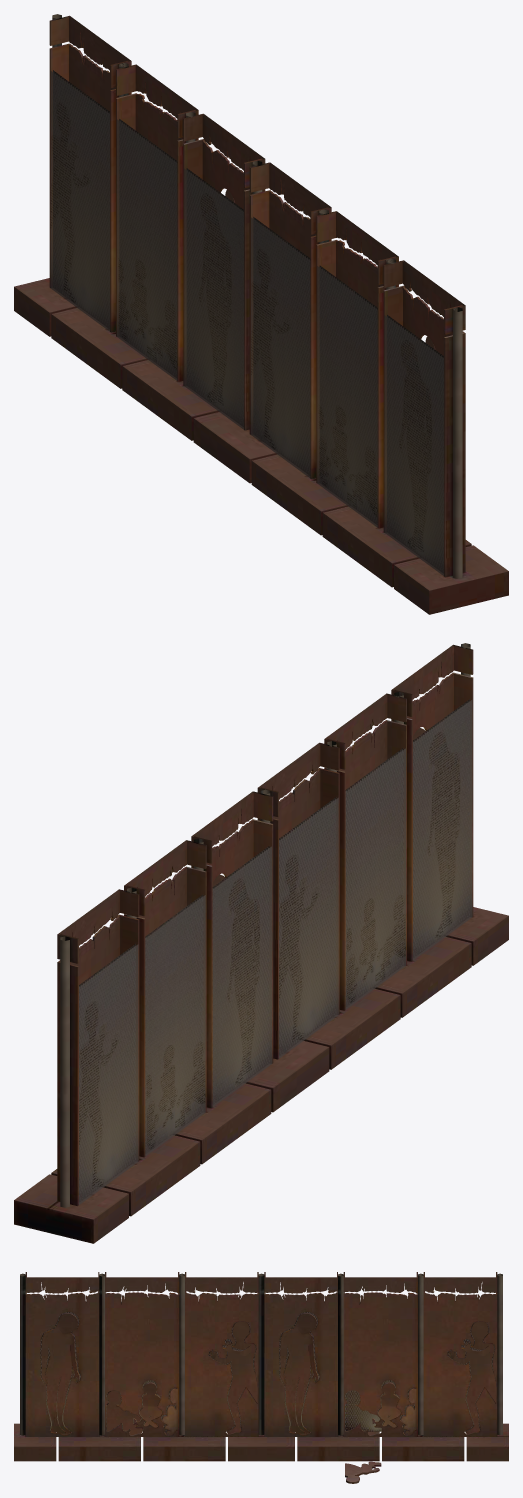
File: artwork_2.glb
3 renders of one model, top to bottom at view 1: azimuth 30°, elevation 25°; view 2: azimuth 150°, elevation 25°; view 3: azimuth 270°, elevation 25°, orthographic. The views are drawn at different scales.
Parts seen in each view (by area): view 1: exhibition_artwork_geo; view 2: exhibition_artwork_geo; view 3: exhibition_artwork_geo.
Boxes of the visible parts, <box> form: exhibition_artwork_geo: <box>14,14,508,614</box>; exhibition_artwork_geo: <box>14,643,508,1243</box>; exhibition_artwork_geo: <box>14,1272,508,1483</box>.
Bounding box in the file's own units: 1.32 × 2.33 × 6.01.
Materials: 2 (2 with a texture image).
